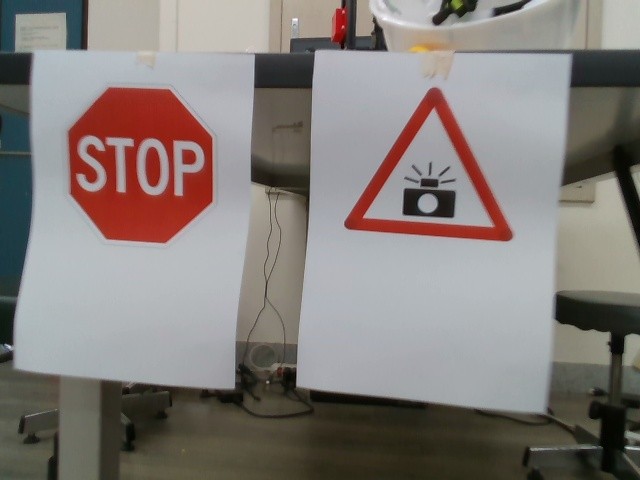camera: (343, 88, 520, 251)
stop: (63, 85, 217, 246)
